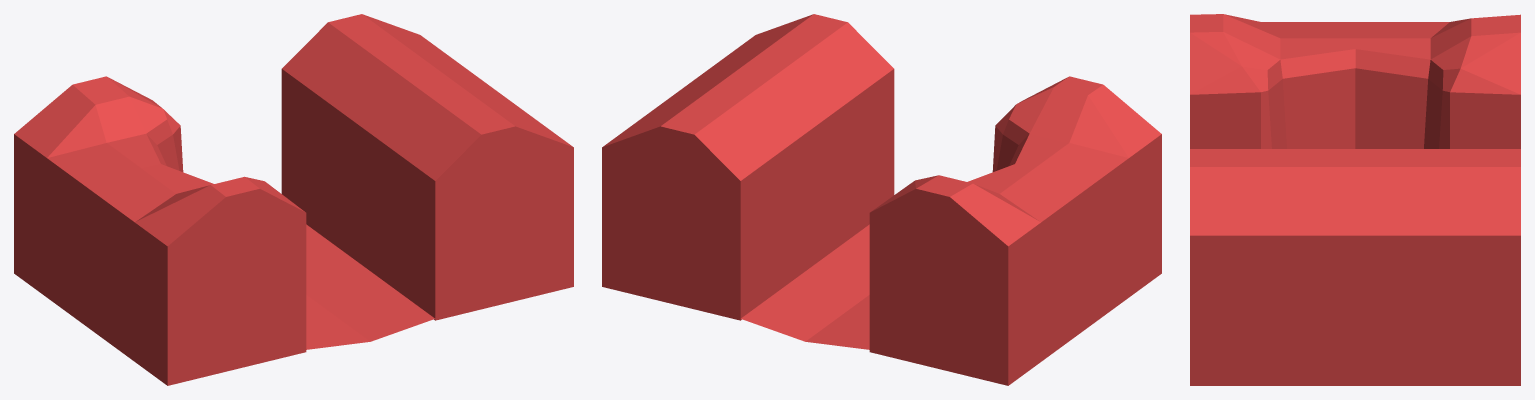
Rendered from Ground_Firebay_COL.fbx.
3 views of the same model, side by side, from view 1: azimuth 30°, elevation 25°; view 2: azimuth 150°, elevation 25°; view 3: azimuth 270°, elevation 25° (orthographic). The views are drawn at different scales.
Parts seen in each view (by area): view 1: Ground_Firebay_COL; view 2: Ground_Firebay_COL; view 3: Ground_Firebay_COL.
Part boxes in pixels (box(x1,y1,x2,y2)): Ground_Firebay_COL: box(14, 14, 573, 385); Ground_Firebay_COL: box(602, 14, 1161, 385); Ground_Firebay_COL: box(1190, 14, 1520, 385).
Size of the model in its own units: 611 by 260 by 400.
